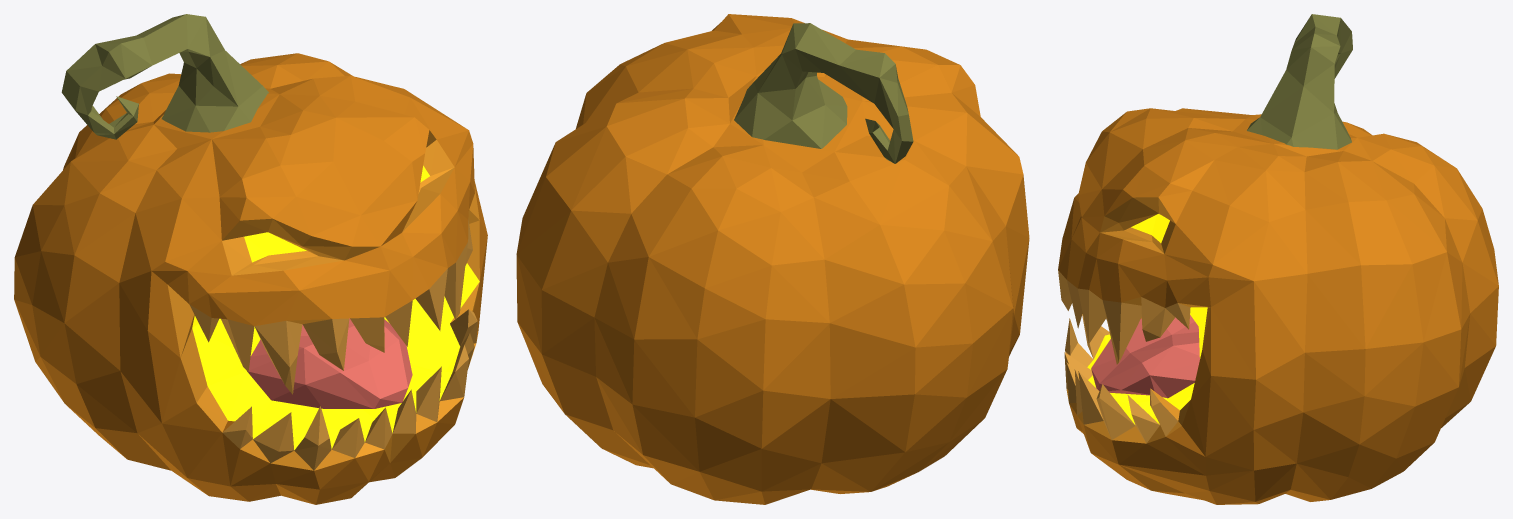
Rendered from Pumpkin_004.fbx.
3 renders of one model, left to right at view 1: azimuth 30°, elevation 25°; view 2: azimuth 150°, elevation 25°; view 3: azimuth 270°, elevation 25°, orthographic. The views are drawn at different scales.
Visible parts, largest first — view 1: Pumpkin_004; view 2: Pumpkin_004; view 3: Pumpkin_004.
Part boxes in pixels (x1,y1,x2,y2): Pumpkin_004: [14, 14, 487, 504]; Pumpkin_004: [516, 14, 1029, 504]; Pumpkin_004: [1058, 14, 1498, 504].
Size of the model in its own units: 0.6261 by 0.6256 by 0.6106.
